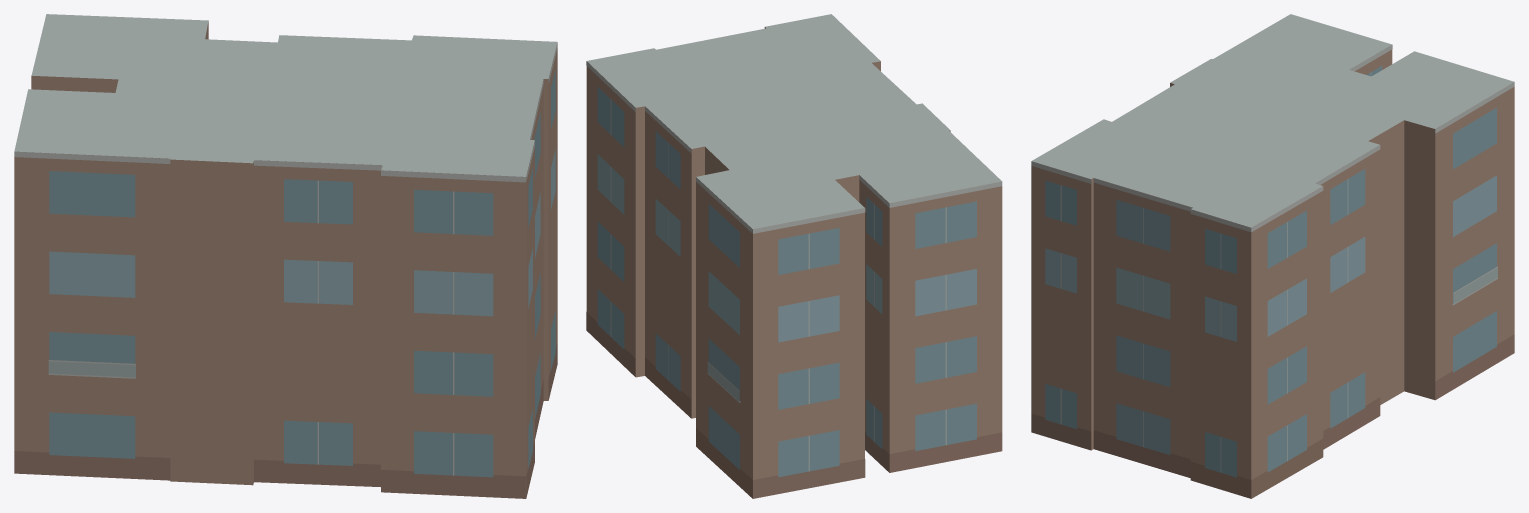
The model's file is survey-upis-32866777.glb.
The picture shows the model from 3 angles, left to right: view 1: azimuth 30°, elevation 25°; view 2: azimuth 150°, elevation 25°; view 3: azimuth 270°, elevation 25°; orthographic projection. The views are drawn at different scales.
Visible parts, largest first — view 1: survey-upis-32866777.tmp; view 2: survey-upis-32866777.tmp; view 3: survey-upis-32866777.tmp.
Part boxes in pixels (left/top/right/bottom): survey-upis-32866777.tmp: left=14, top=14, right=557, bottom=498; survey-upis-32866777.tmp: left=586, top=14, right=1002, bottom=498; survey-upis-32866777.tmp: left=1031, top=14, right=1514, bottom=498.
Size of the model in its own units: 24.14 by 14.28 by 23.08.
